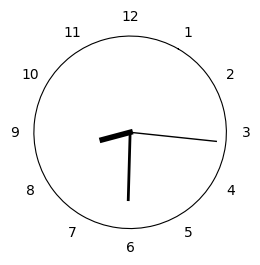12: (122, 9, 139, 23)
circle: (33, 35, 227, 229)
hours: (98, 130, 133, 142)
minutes: (126, 136, 130, 201)
seconds: (132, 132, 217, 142)
